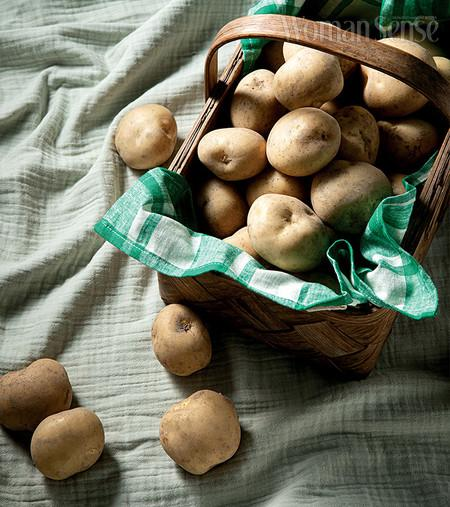potato: (110, 306, 174, 377), (172, 154, 229, 214), (22, 324, 79, 379), (105, 243, 150, 302), (190, 85, 239, 139), (139, 100, 186, 150), (79, 83, 125, 134)
